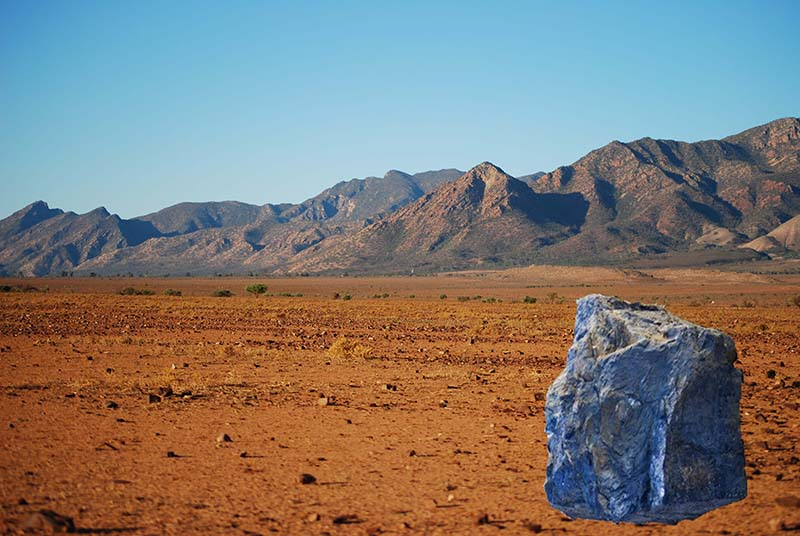Rocks: (540, 289, 758, 528)
